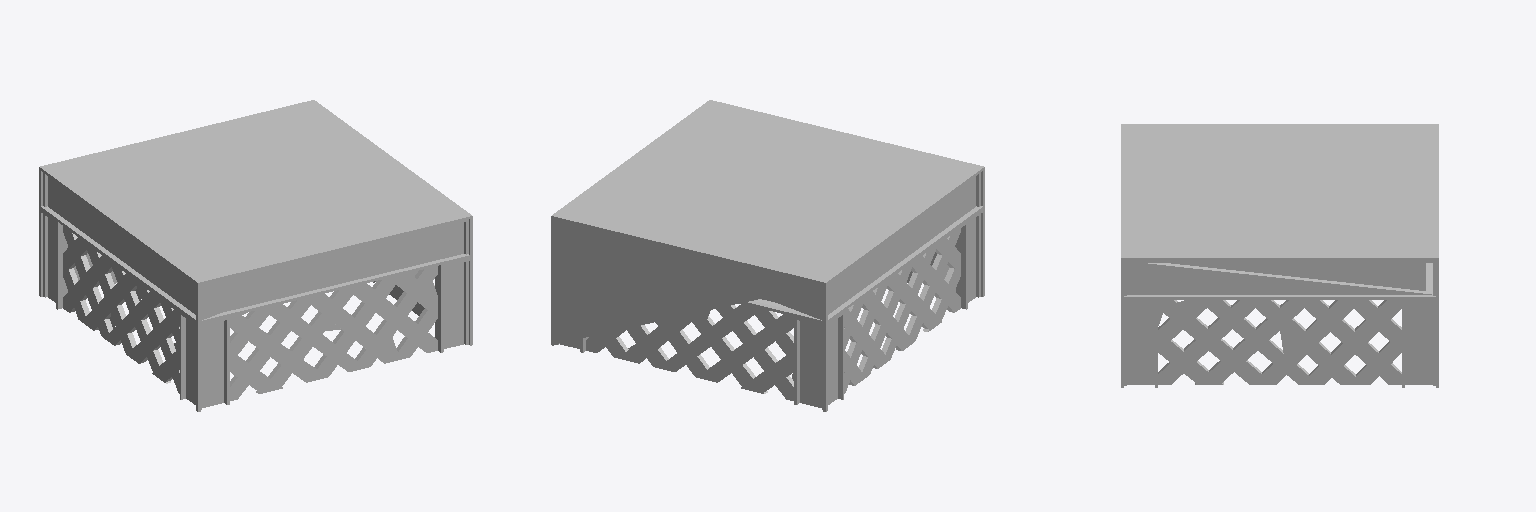
The model's file is Half_Crate__100154_.obj.
3 renders of one model, left to right at view 1: azimuth 30°, elevation 25°; view 2: azimuth 150°, elevation 25°; view 3: azimuth 270°, elevation 25°, orthographic.
Visible parts, largest first — view 1: Half_Crate__100154__temp_Half_Crate__100154_.004; view 2: Half_Crate__100154__temp_Half_Crate__100154_.004; view 3: Half_Crate__100154__temp_Half_Crate__100154_.004.
Part boxes in pixels (x1,y1,x2,y2): Half_Crate__100154__temp_Half_Crate__100154_.004: (39, 100, 472, 411); Half_Crate__100154__temp_Half_Crate__100154_.004: (551, 100, 984, 411); Half_Crate__100154__temp_Half_Crate__100154_.004: (1121, 124, 1438, 387).
Bounding box in the file's own units: 0.3334 × 0.15 × 0.3334.